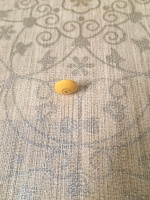Nurofen: (54, 78, 78, 96)
